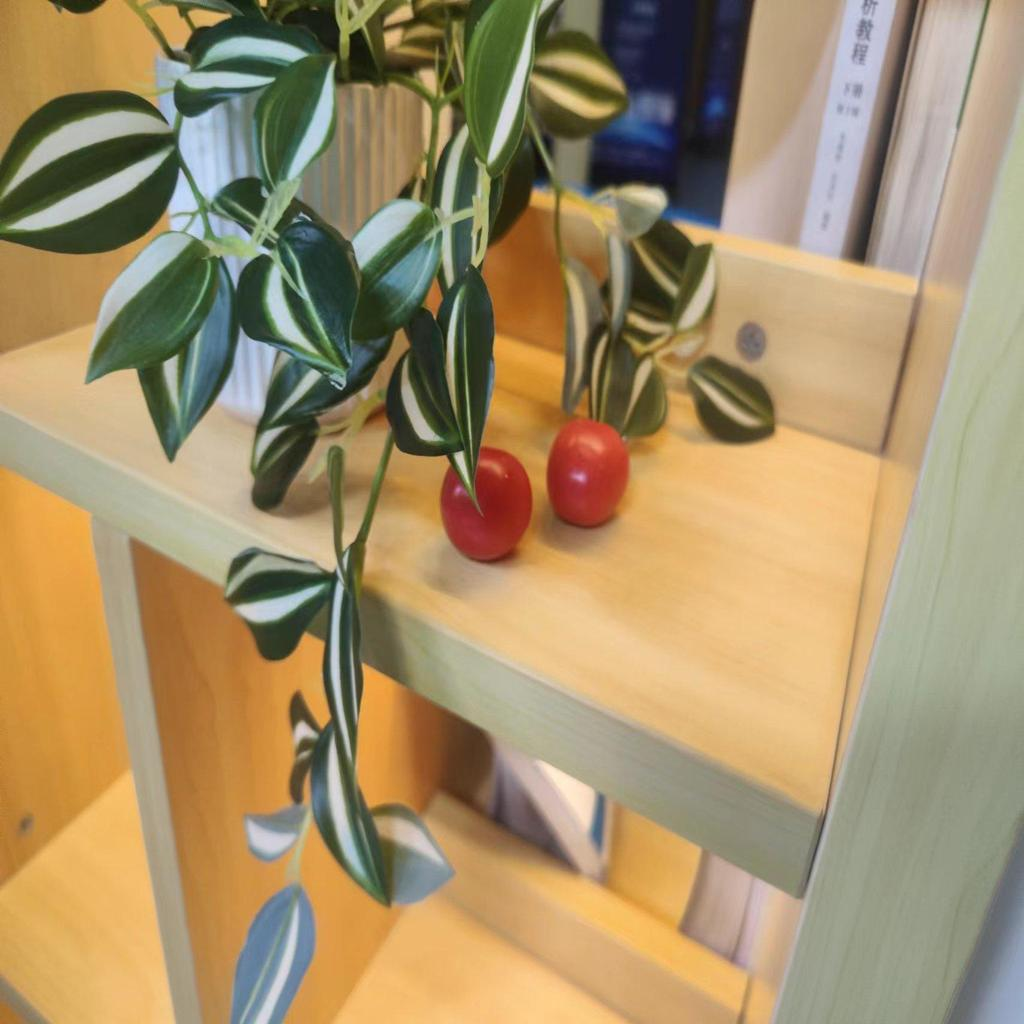tomato: (441, 448, 536, 566), (542, 412, 630, 536)
